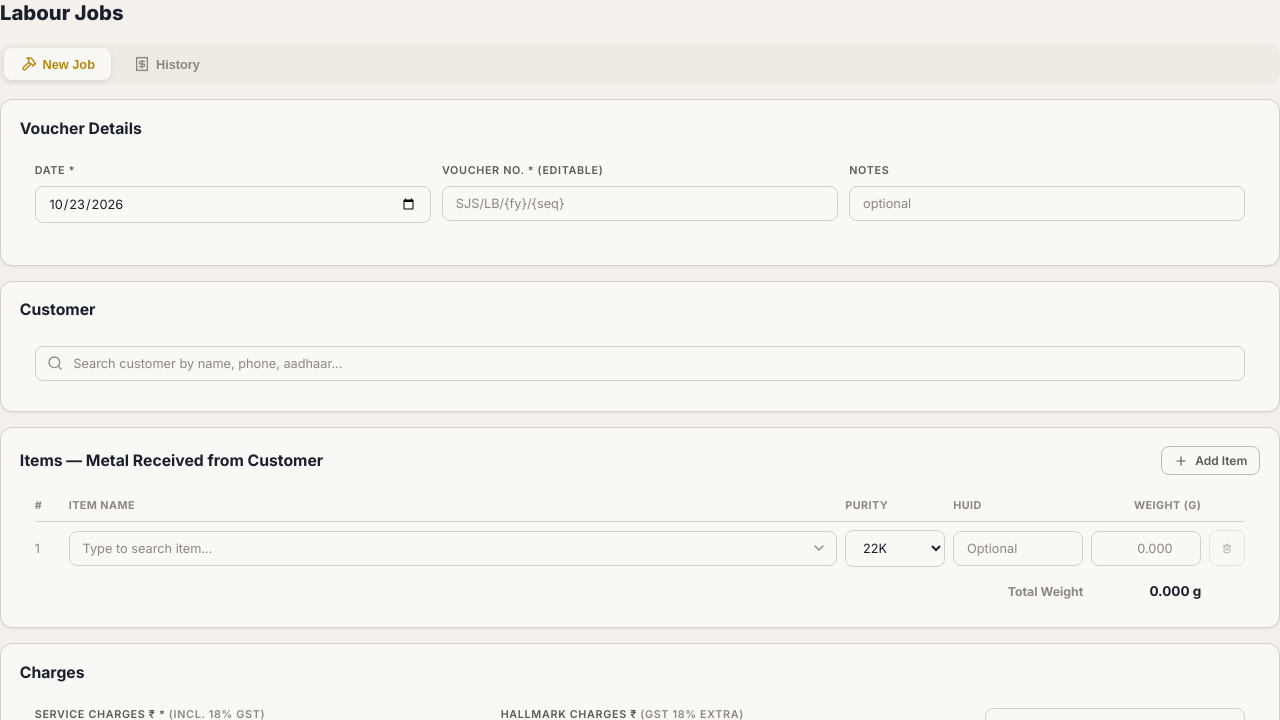
LabourJobPage › lists saved jobs in History with items summary
Click the button "History" at (167, 64), box left=117, top=48, right=216, bottom=80
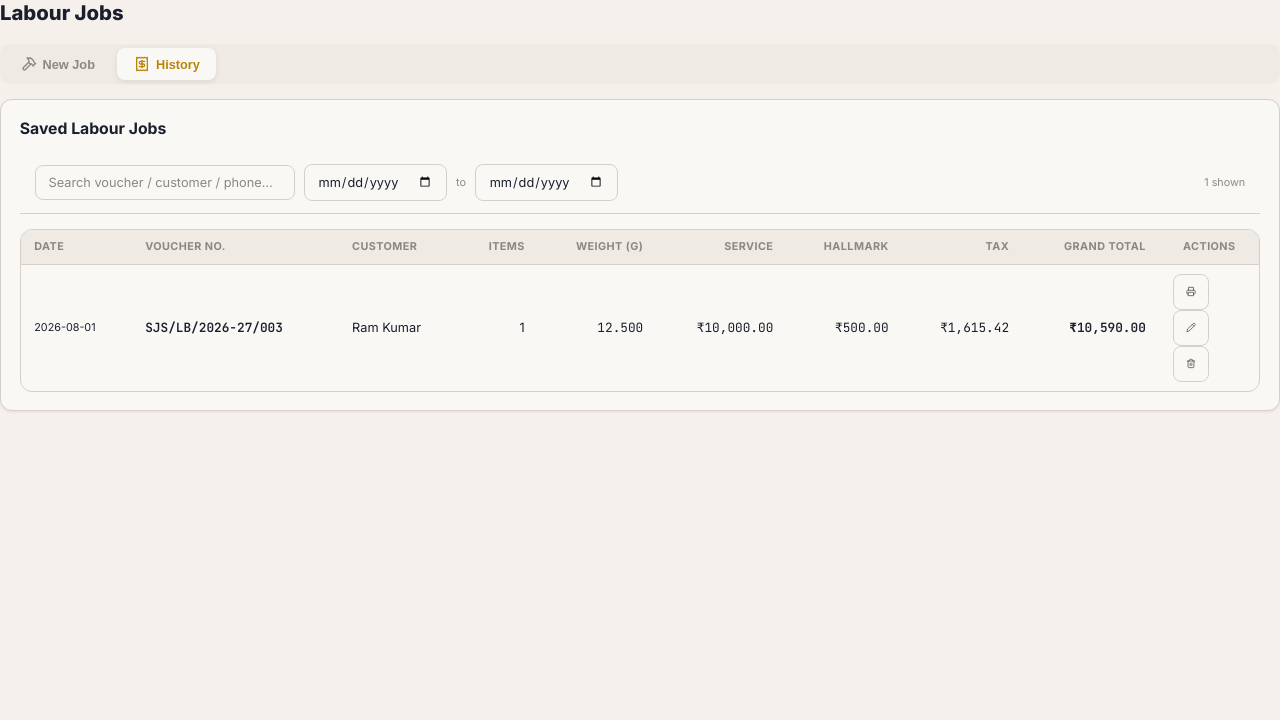
Expected: the text "SJS/LB/2026-27/003" is shown, left=132, top=264, right=339, bottom=390
Expected: the text "Ram Kumar" is shown, left=339, top=264, right=459, bottom=390
Expected: the text "12.500" is shown, left=538, top=264, right=657, bottom=390
